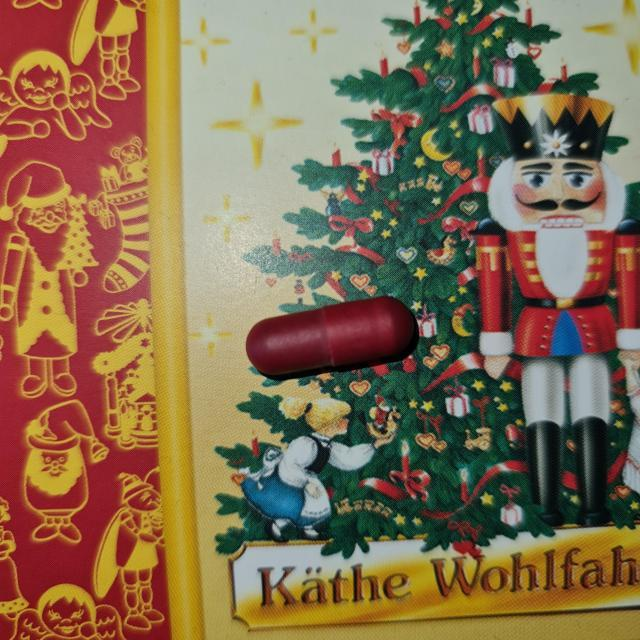pill: (244, 294, 422, 381)
